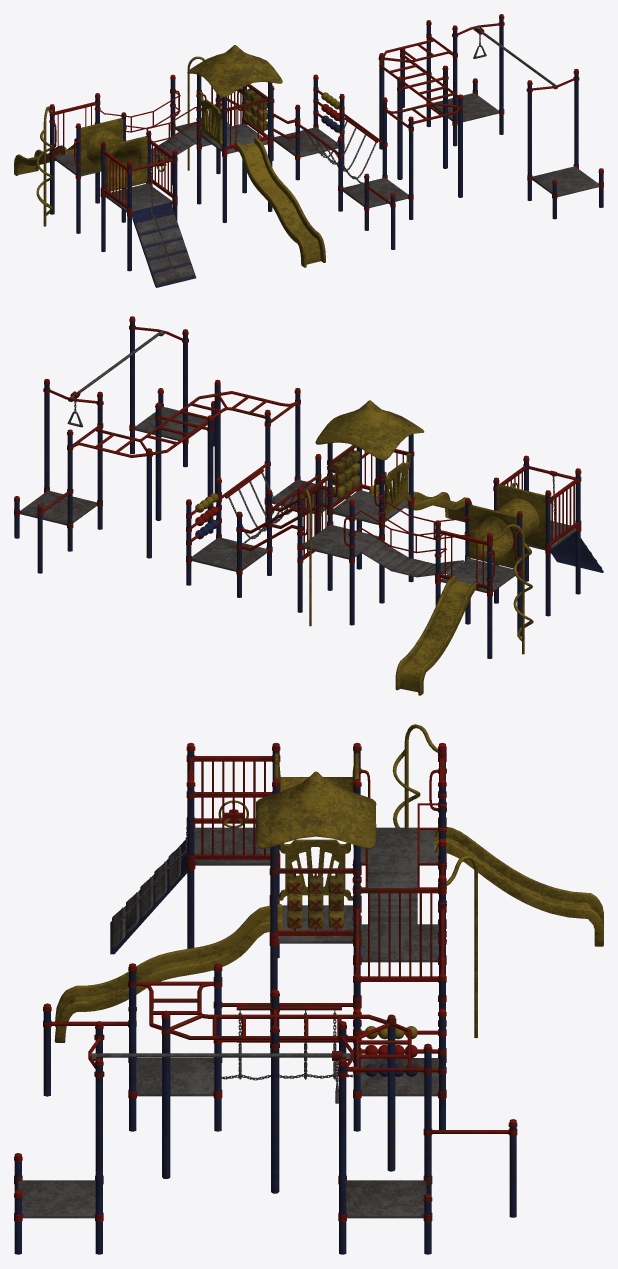
3 renders of one model, top to bottom at view 1: azimuth 30°, elevation 25°; view 2: azimuth 150°, elevation 25°; view 3: azimuth 270°, elevation 25°, orthographic. The views are drawn at different scales.
Parts seen in each view (by area): view 1: Bake procedural; view 2: Bake procedural; view 3: Bake procedural.
Part boxes in pixels (x1,y1,x2,y2): Bake procedural: (14, 14, 603, 287); Bake procedural: (14, 316, 603, 695); Bake procedural: (14, 724, 603, 1254).
Size of the model in its own units: 2.02 by 0.699 by 1.42.
1 material, 1 textured.
